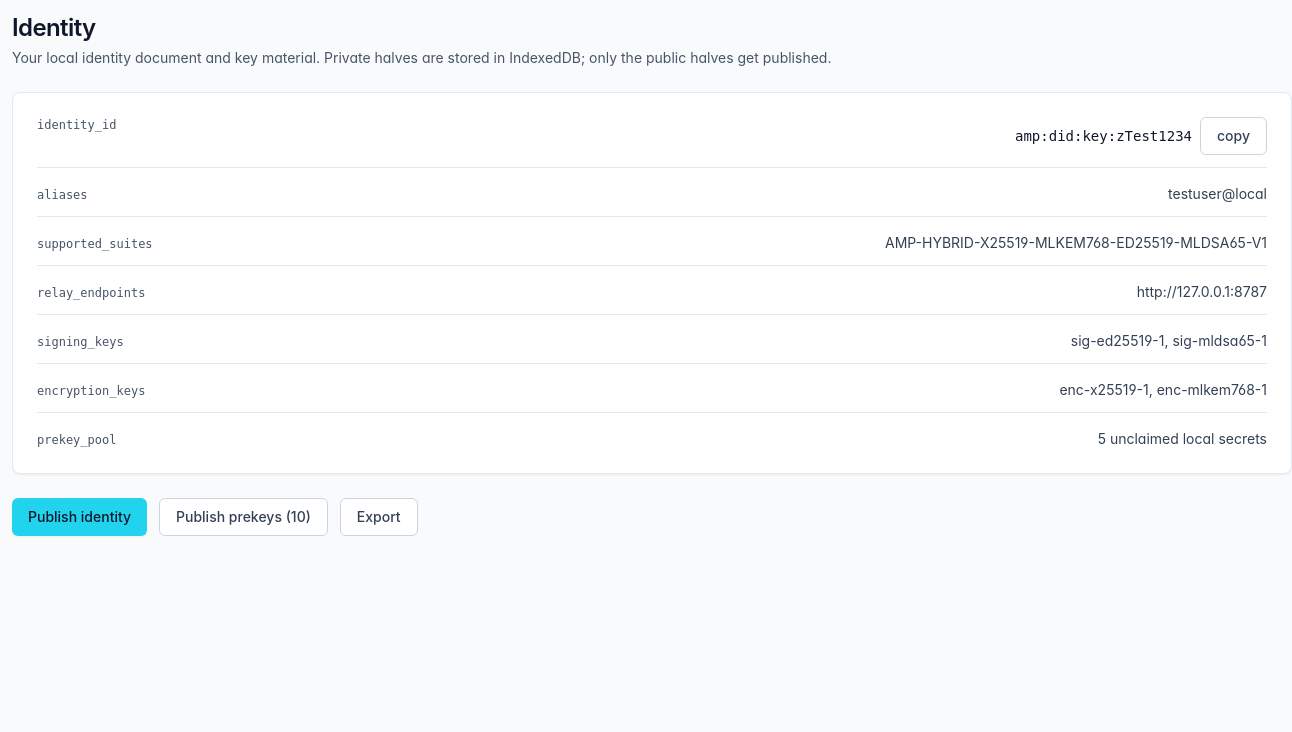
Test: Identity page › publishes prekeys and refreshes pool count
What coordinates should you click on to do the following:
click the button "Publish prekeys (10)"
I would click on:
 (243, 517)
Its box is [159, 498, 328, 536].
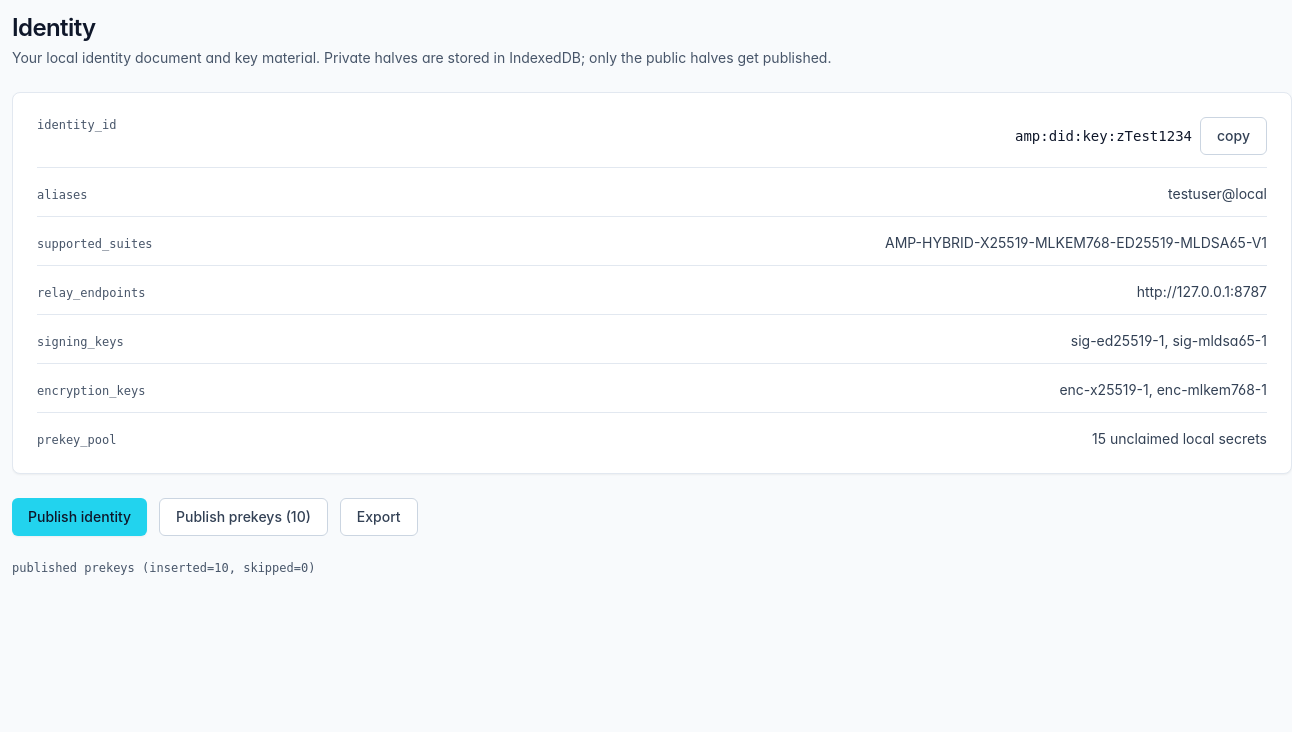
Expected: the text "published prekeys (inserted=10, skipped=0)" is shown, [12, 561, 315, 575]
Expected: the text "15 unclaimed local secrets" is shown, [1092, 429, 1267, 449]
